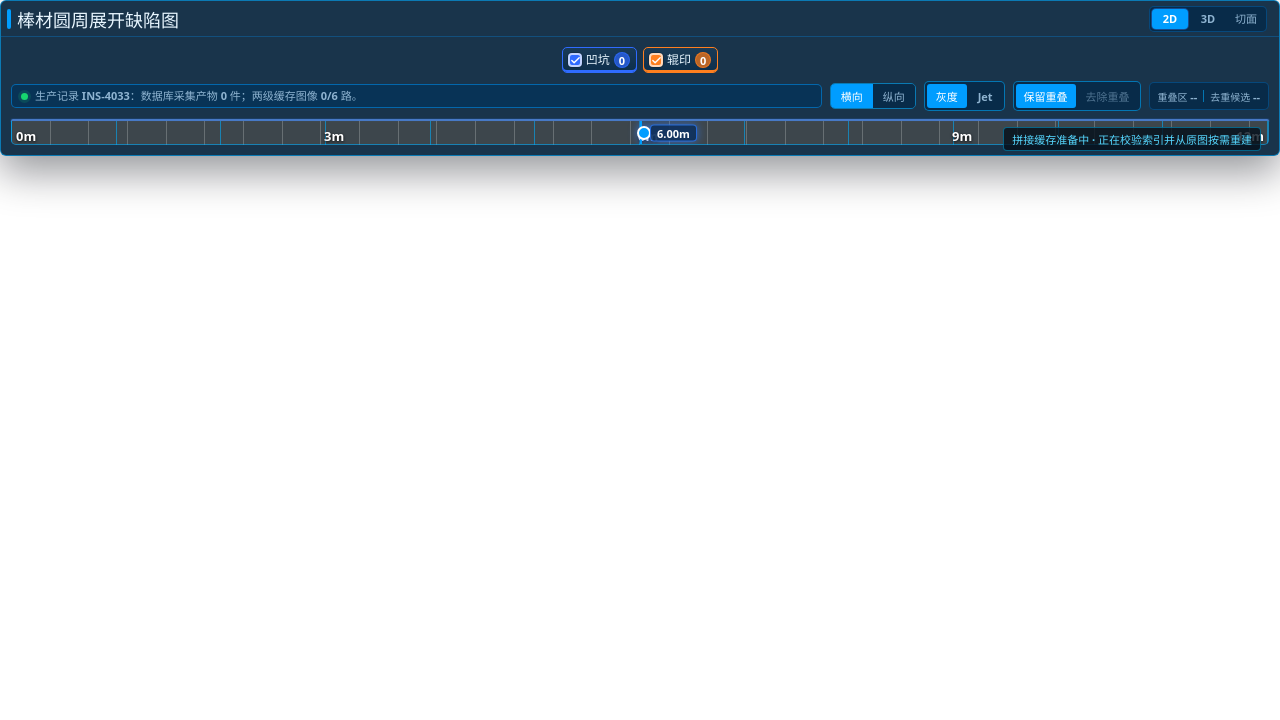
Test: PlateMap › maps owned-column gray and JET renditions onto the production cylinder at 1:1 pixels
Click the button "3D".
click(1208, 18)  # box [1190,8,1226,28]
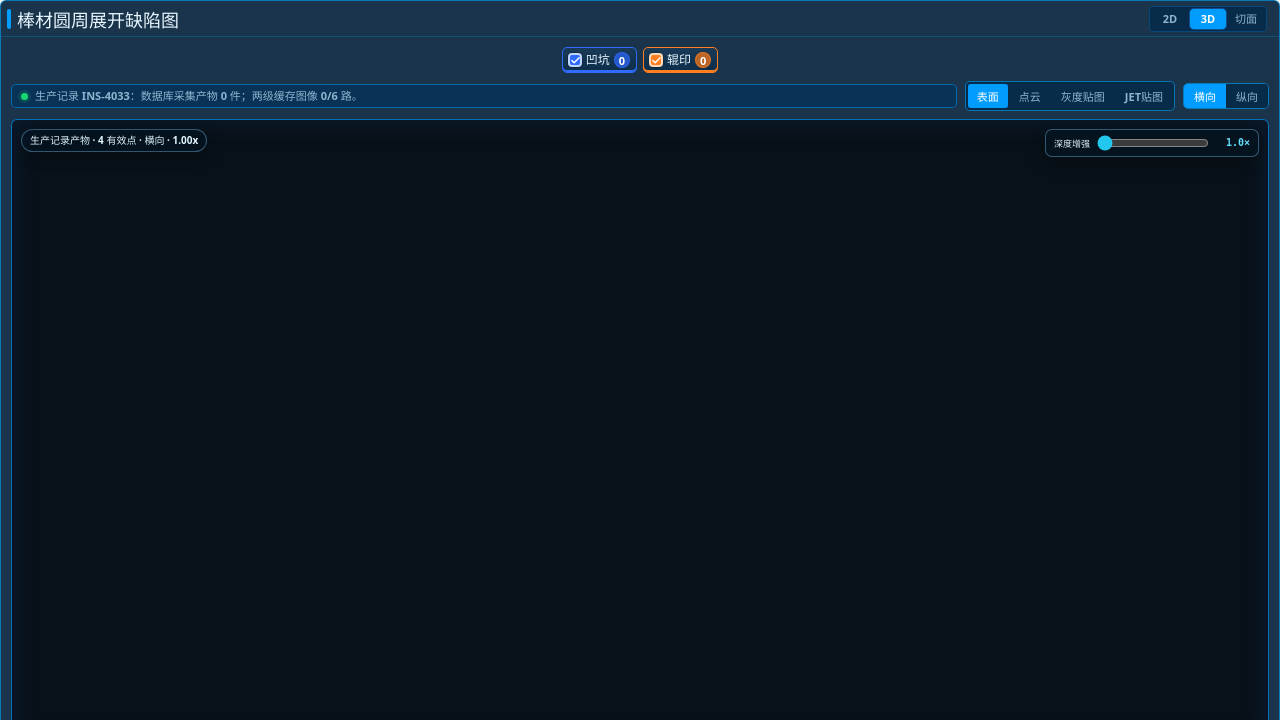
Click the button "灰度贴图".
click(1083, 96)  # box [1052,84,1114,108]
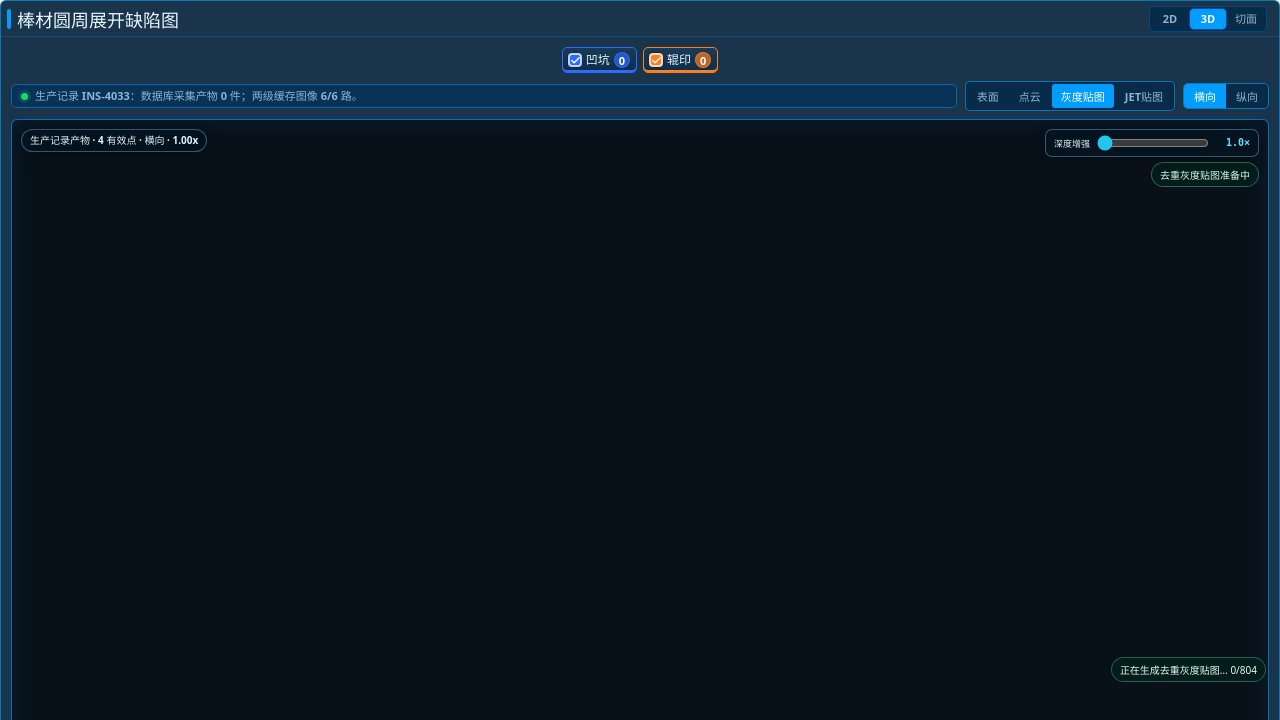
Result: the text "去重灰度贴图准备中" is shown at [1151,162,1259,187]
Click the button "JET贴图".
click(1144, 96)  # box [1116,84,1172,108]
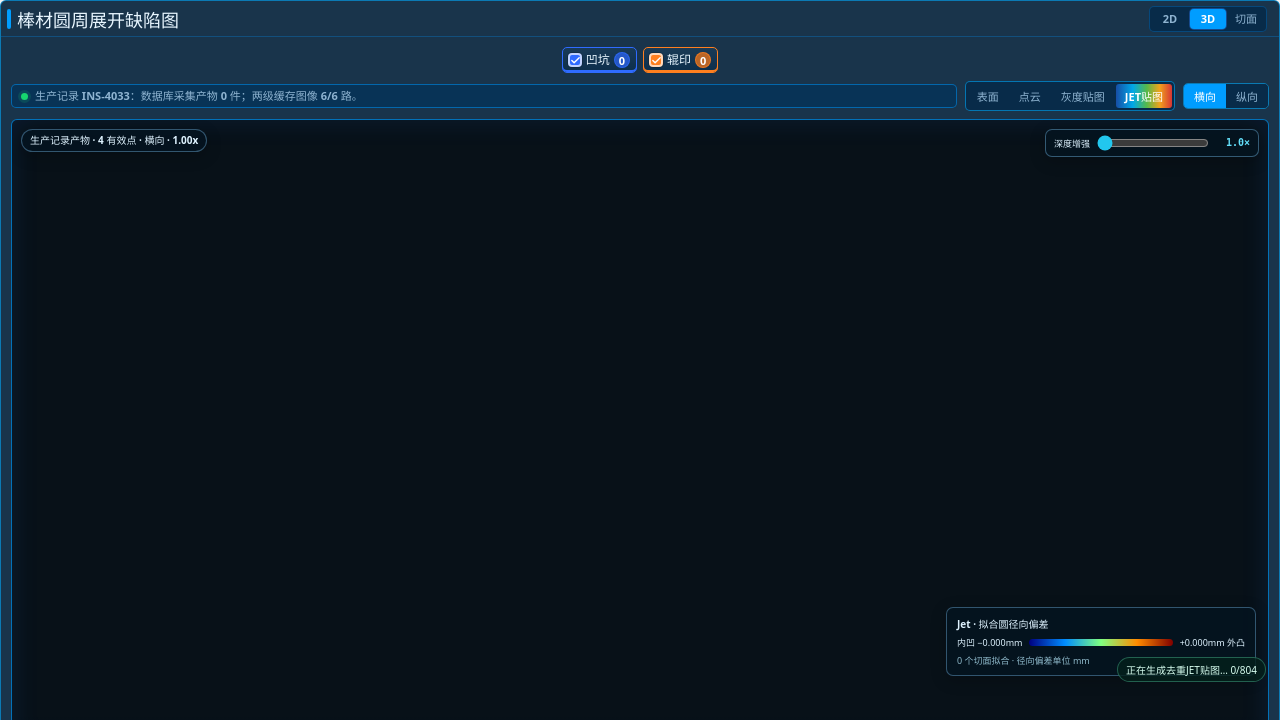
Result: the element named "Jet 拟合圆径向偏差图例" is shown at [946,607,1256,676]
